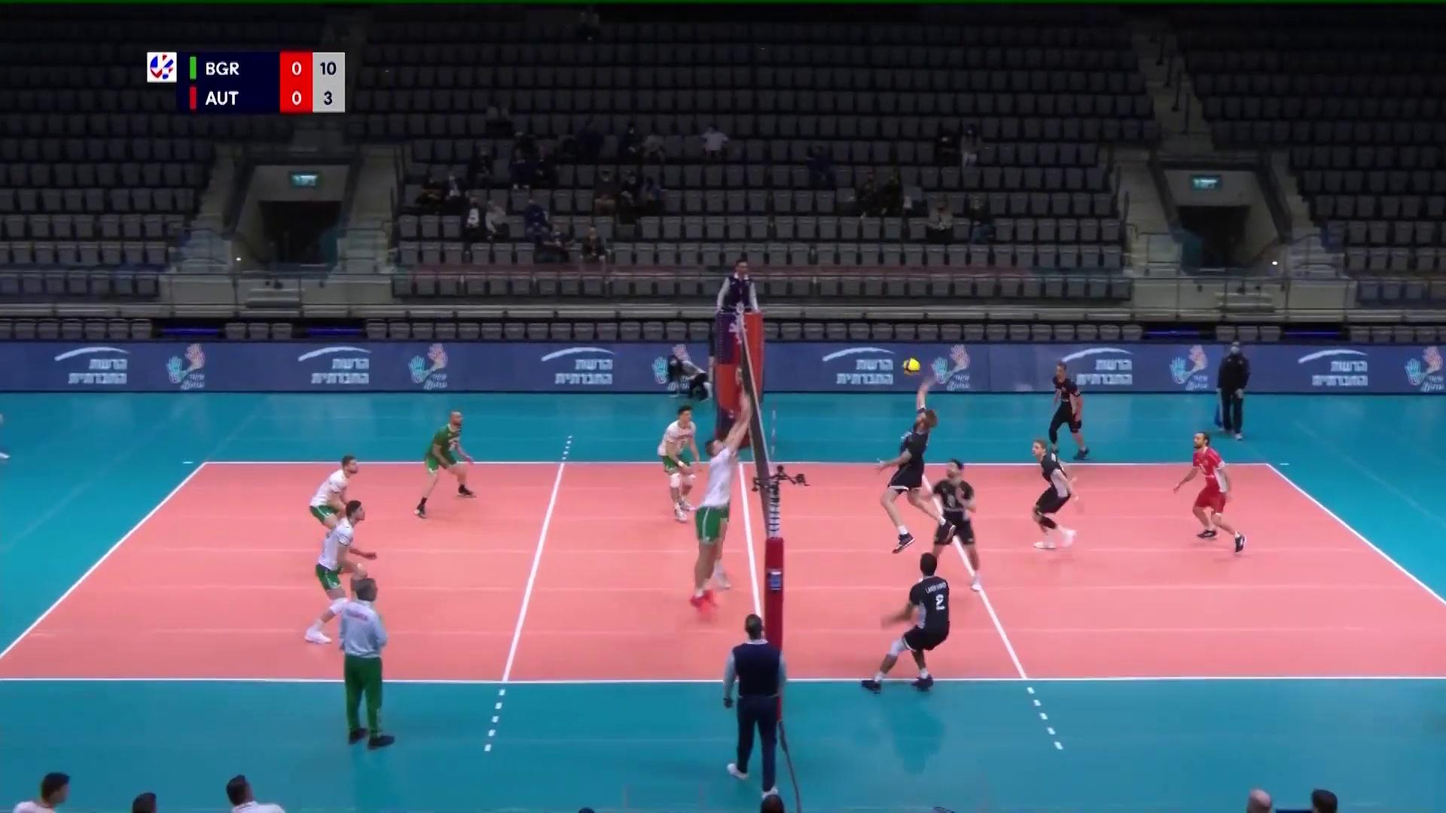ball: (902, 357, 922, 376)
